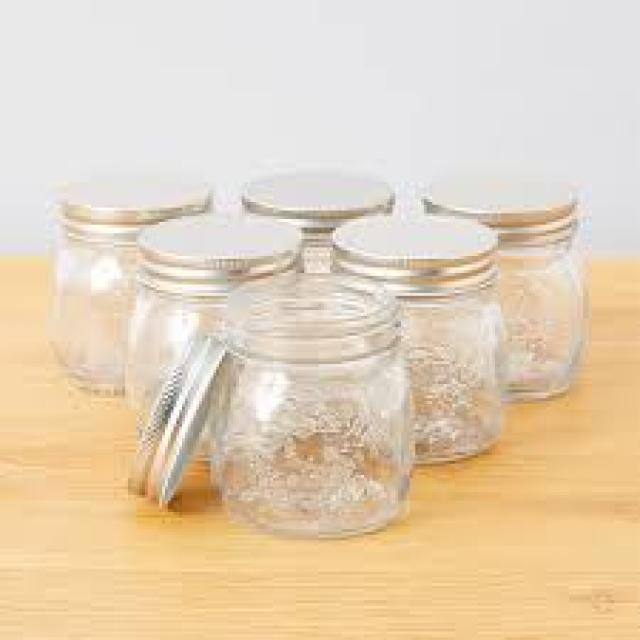glass: (216, 273, 413, 535), (125, 273, 299, 449), (399, 296, 504, 461), (51, 231, 154, 393), (489, 242, 583, 398)
metal: (122, 327, 219, 506), (134, 208, 302, 293), (324, 208, 492, 293), (239, 171, 390, 242), (54, 173, 208, 239), (418, 182, 578, 245)
